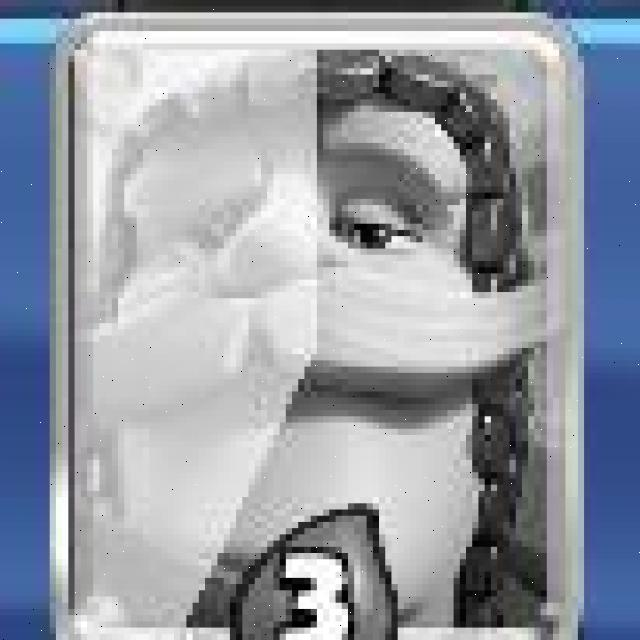Knight: (52, 17, 581, 634)
